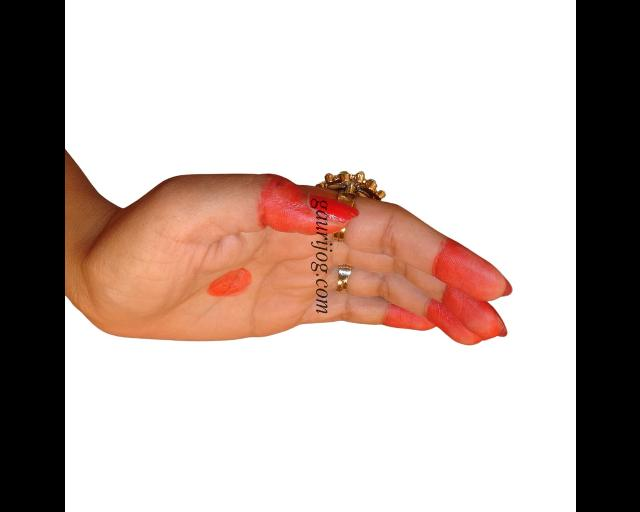sarpsheesh: (64, 151, 511, 346)
